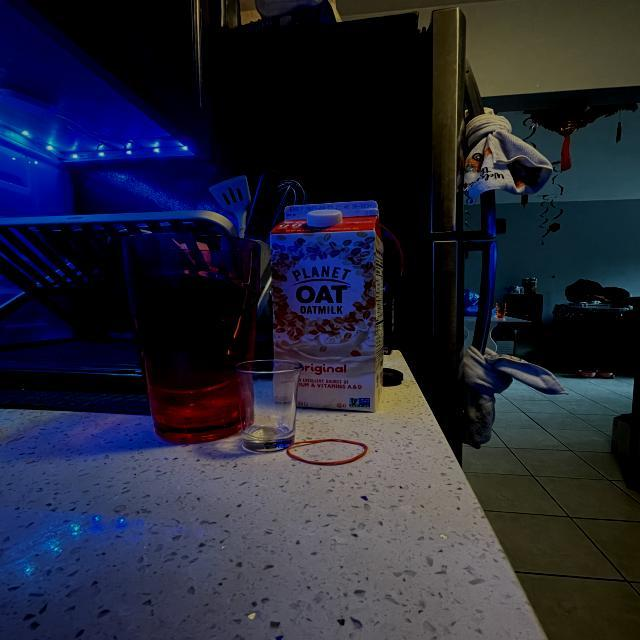Planet Oat Original: (264, 198, 394, 416)
